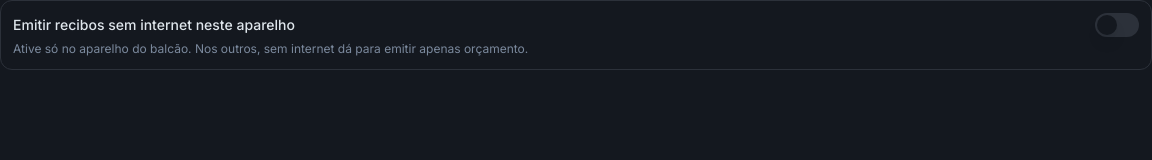
Test case: botão em Configurações › liga e desliga o modo offline deste aparelho
Check: the text "Ative só no aparelho do balcão" is shown, box [13, 41, 528, 56]
Click the switch named "sem internet neste aparelho".
click(1117, 25)  # box [1095, 13, 1139, 37]
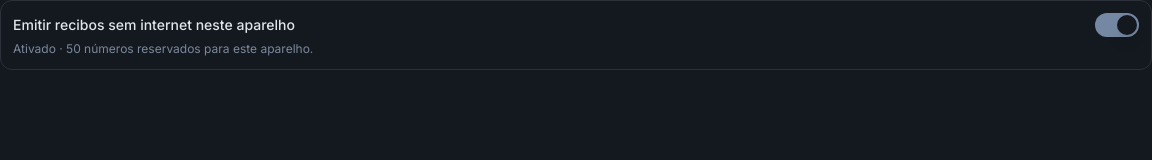
Check: the text "Ativado · 50 números reservados para este aparelho." is shown, box [13, 41, 313, 56]
Click the switch named "sem internet neste aparelho".
click(1117, 25)  # box [1095, 13, 1139, 37]
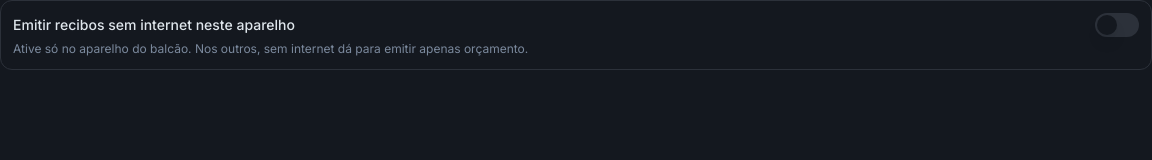
Check: the text "Ative só no aparelho do balcão" is shown, box [13, 41, 528, 56]
